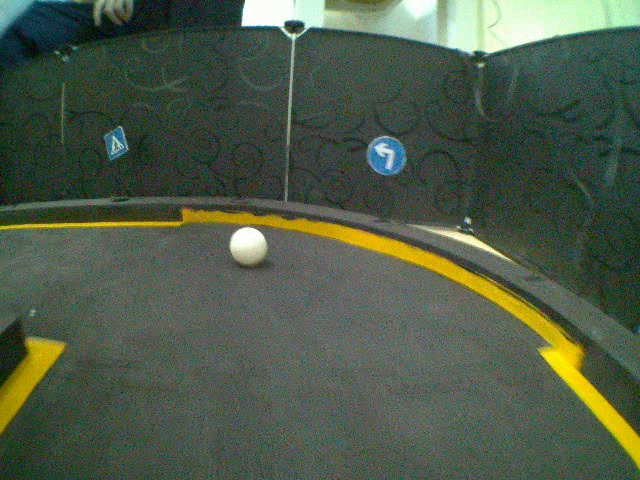ball: (227, 226, 271, 268)
